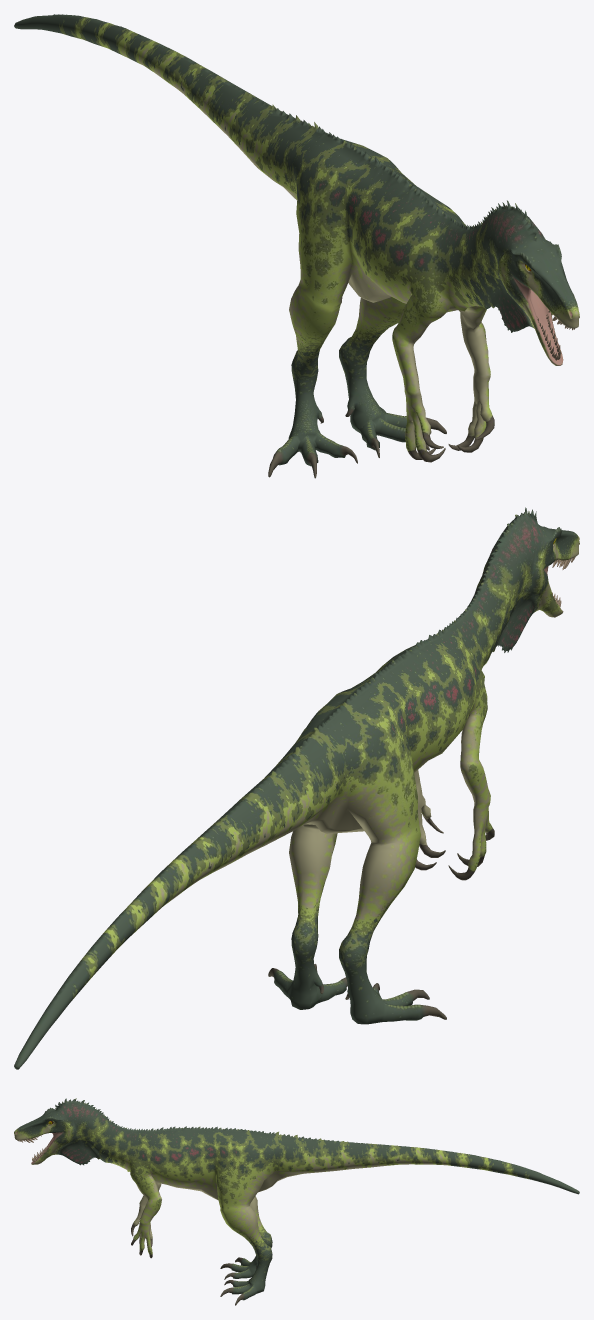
Rendered from Herrerasaurio.glb.
3 views of the same model, one above another, from view 1: azimuth 30°, elevation 25°; view 2: azimuth 150°, elevation 25°; view 3: azimuth 270°, elevation 25° (orthographic). The views are drawn at different scales.
Visible parts, largest first — view 1: DW_Herrerasaurio_Adulto_Mayor_mesh; view 2: DW_Herrerasaurio_Adulto_Mayor_mesh; view 3: DW_Herrerasaurio_Adulto_Mayor_mesh.
Boxes of the visible parts, bbox=[...] form: DW_Herrerasaurio_Adulto_Mayor_mesh: bbox=[14, 14, 579, 478]; DW_Herrerasaurio_Adulto_Mayor_mesh: bbox=[14, 507, 579, 1069]; DW_Herrerasaurio_Adulto_Mayor_mesh: bbox=[14, 1098, 579, 1305].
Bounding box in the file's own units: 0.1835 × 0.362 × 1.
2 materials, 2 textured.
